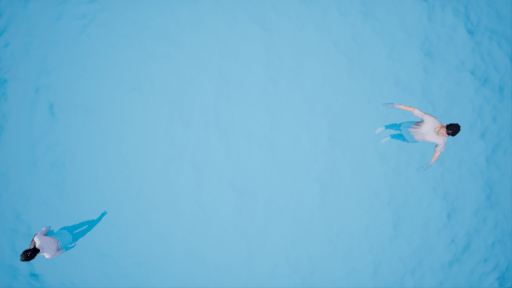person: (371, 96, 462, 169), (10, 209, 109, 264)
